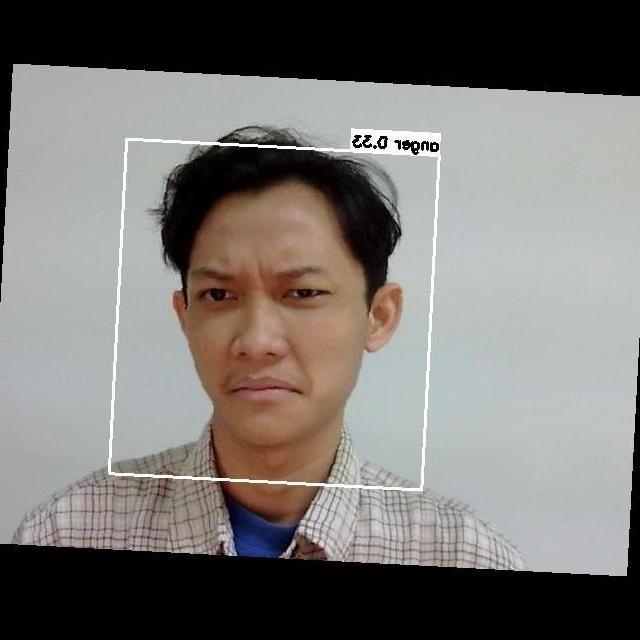Disgust: (162, 230, 372, 431)
